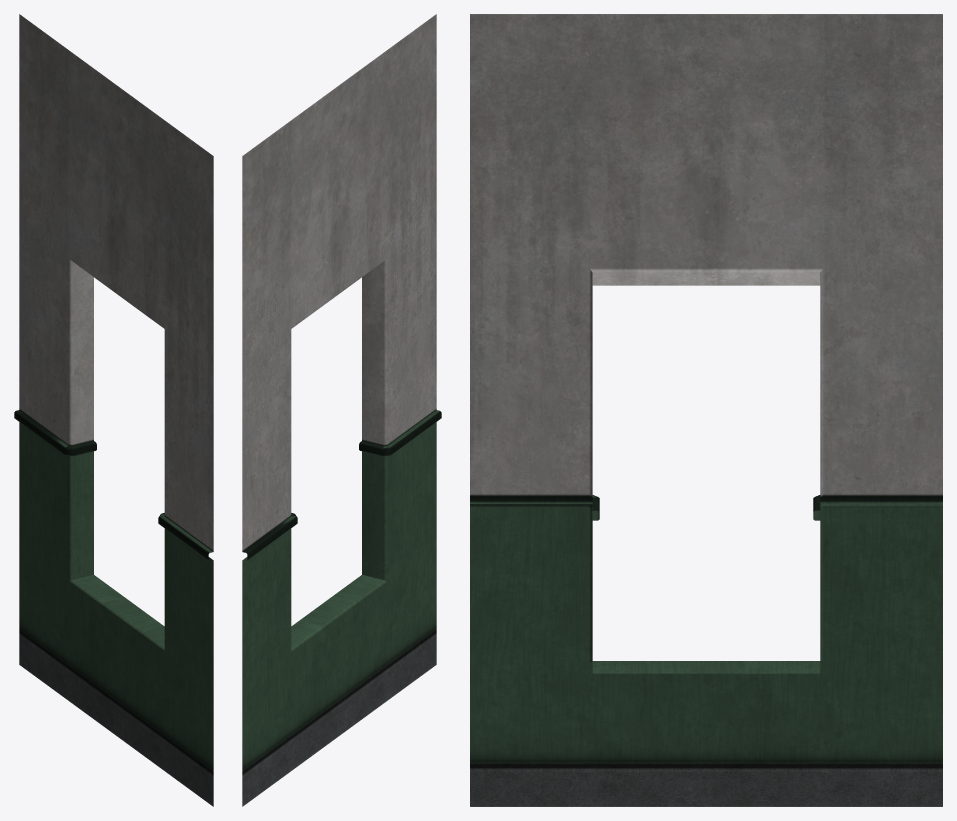
The model's file is Psychiatric_Ward_Infirmary_Wall_2m_Window_B.glb.
The picture shows the model from 3 angles, left to right: view 1: azimuth 30°, elevation 25°; view 2: azimuth 150°, elevation 25°; view 3: azimuth 270°, elevation 25°; orthographic projection. The views are drawn at different scales.
Visible parts, largest first — view 1: Psychiatric_Ward_Infirmary_Wall_2m_Window_B; view 2: Psychiatric_Ward_Infirmary_Wall_2m_Window_B; view 3: Psychiatric_Ward_Infirmary_Wall_2m_Window_B.
Boxes of the visible parts, left/top/right/bottom form: Psychiatric_Ward_Infirmary_Wall_2m_Window_B: left=14, top=14, right=213, bottom=806; Psychiatric_Ward_Infirmary_Wall_2m_Window_B: left=242, top=14, right=441, bottom=806; Psychiatric_Ward_Infirmary_Wall_2m_Window_B: left=470, top=14, right=942, bottom=806.
Bounding box in the file's own units: 0.1737 × 3.7 × 2.
1 material, 1 textured.
